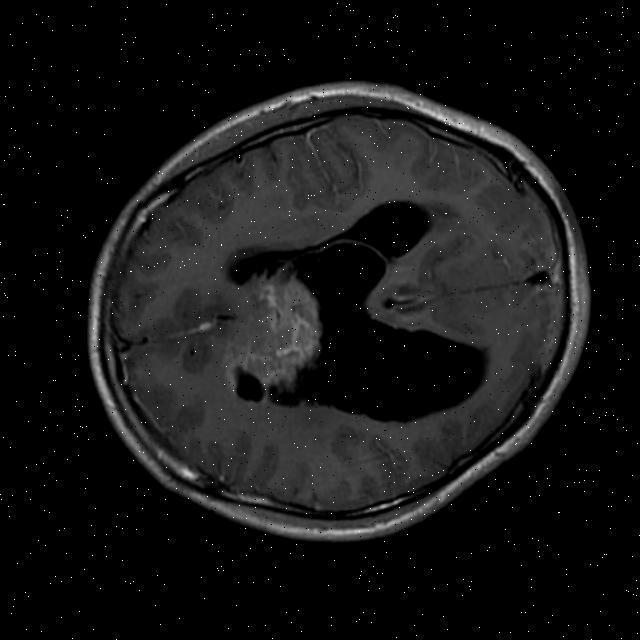Glioma: (209, 262, 332, 403)
